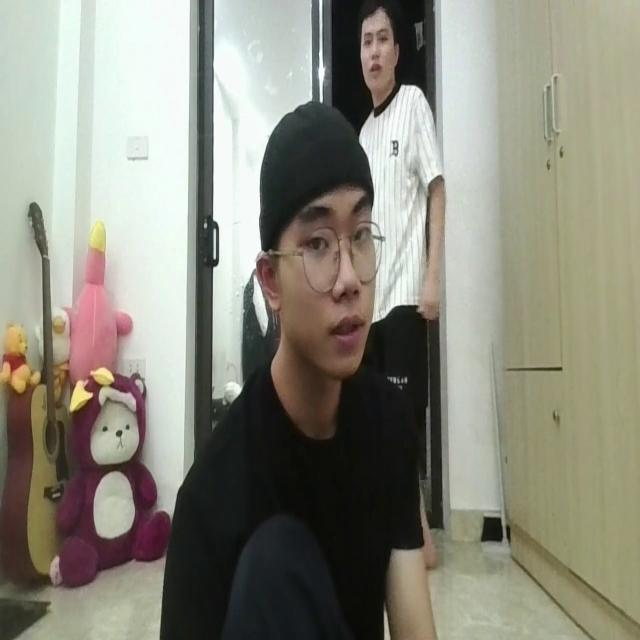extra_person: (350, 0, 447, 365)
student: (158, 97, 430, 640)
